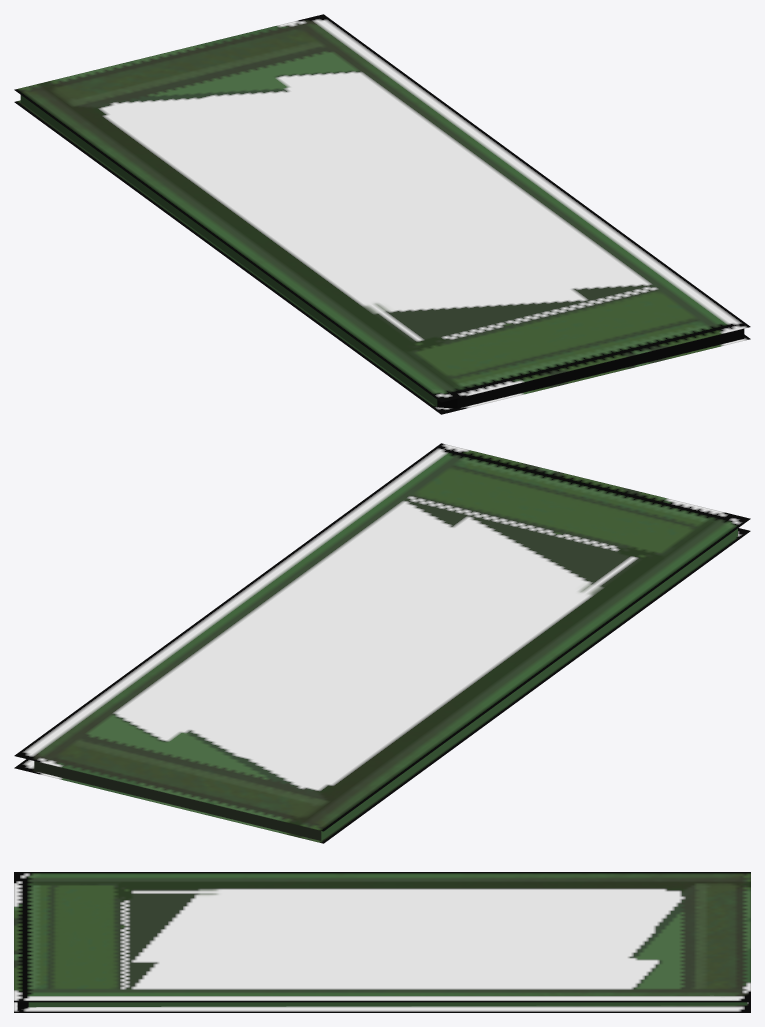
The model's file is pz_native_location_shop_greenes_01_72_frame.obj.
3 views of the same model, one above another, from view 1: azimuth 30°, elevation 25°; view 2: azimuth 150°, elevation 25°; view 3: azimuth 270°, elevation 25° (orthographic). The views are drawn at different scales.
Parts seen in each view (by area): view 1: pz_native_location_shop_greenes_01_72_frame; view 2: pz_native_location_shop_greenes_01_72_frame; view 3: pz_native_location_shop_greenes_01_72_frame.
Boxes of the visible parts, x1,y1,x2,y2 form: pz_native_location_shop_greenes_01_72_frame: [14, 14, 750, 414]; pz_native_location_shop_greenes_01_72_frame: [14, 443, 750, 843]; pz_native_location_shop_greenes_01_72_frame: [14, 872, 750, 1012].
Bounding box in the file's own units: 1.06 × 0.04 × 2.54.
Materials: 1 (1 with a texture image).
